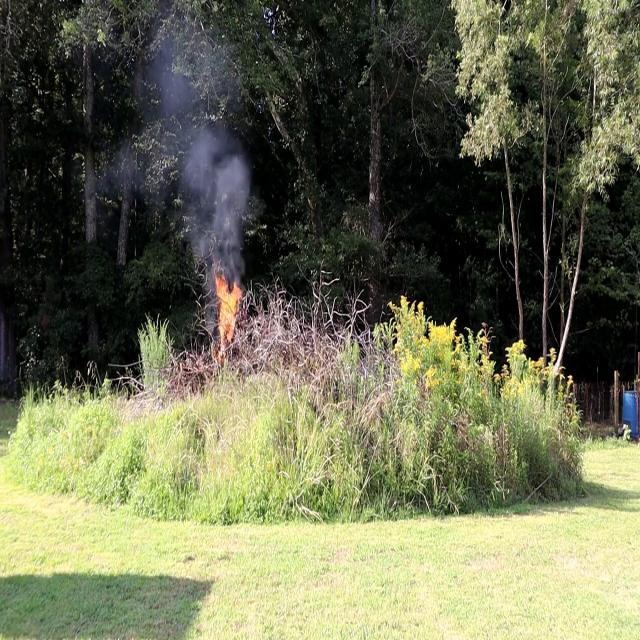Fire: (212, 270, 244, 340)
Smoke: (151, 25, 254, 274)
